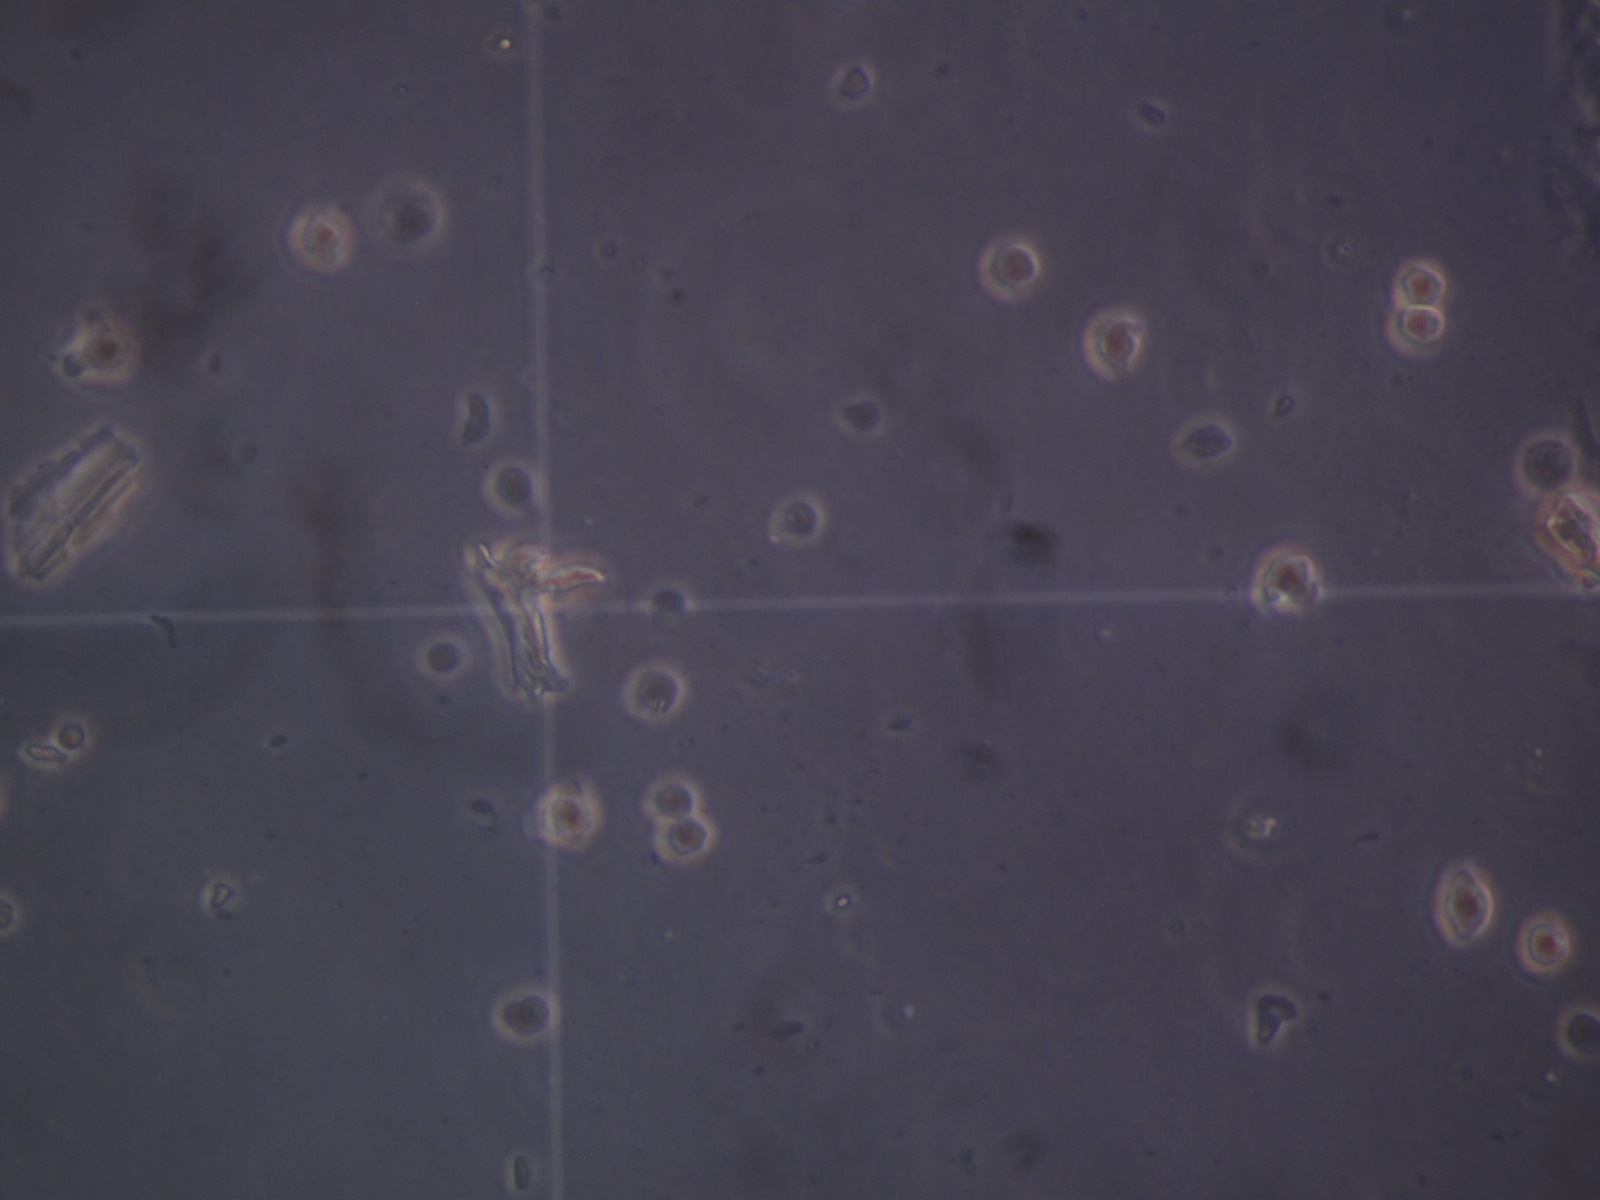hemo: (1250, 547, 1320, 616), (370, 184, 440, 253), (973, 238, 1041, 303), (1083, 309, 1141, 383), (1435, 876, 1492, 950), (1516, 429, 1581, 493), (619, 663, 684, 724), (289, 212, 351, 270), (1173, 415, 1235, 473), (69, 328, 134, 382), (491, 991, 558, 1042), (1516, 916, 1574, 976), (1385, 304, 1444, 361), (535, 792, 597, 846), (640, 771, 699, 821), (483, 463, 535, 516), (655, 818, 714, 863), (769, 495, 824, 543), (1393, 258, 1448, 306), (1557, 1007, 1600, 1065), (828, 62, 876, 108), (50, 716, 94, 758), (1, 894, 19, 937)
